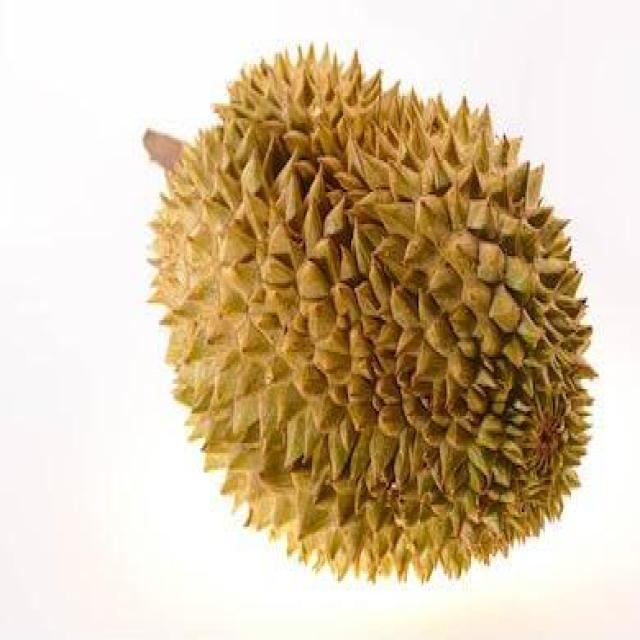mature: (145, 49, 594, 578)
